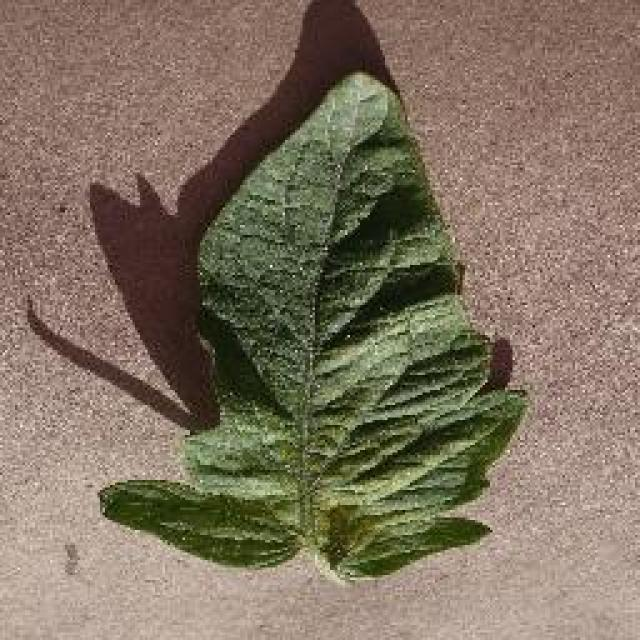Tom_Spider_mites Two-spotted_spider_mite: (229, 168, 430, 526)
